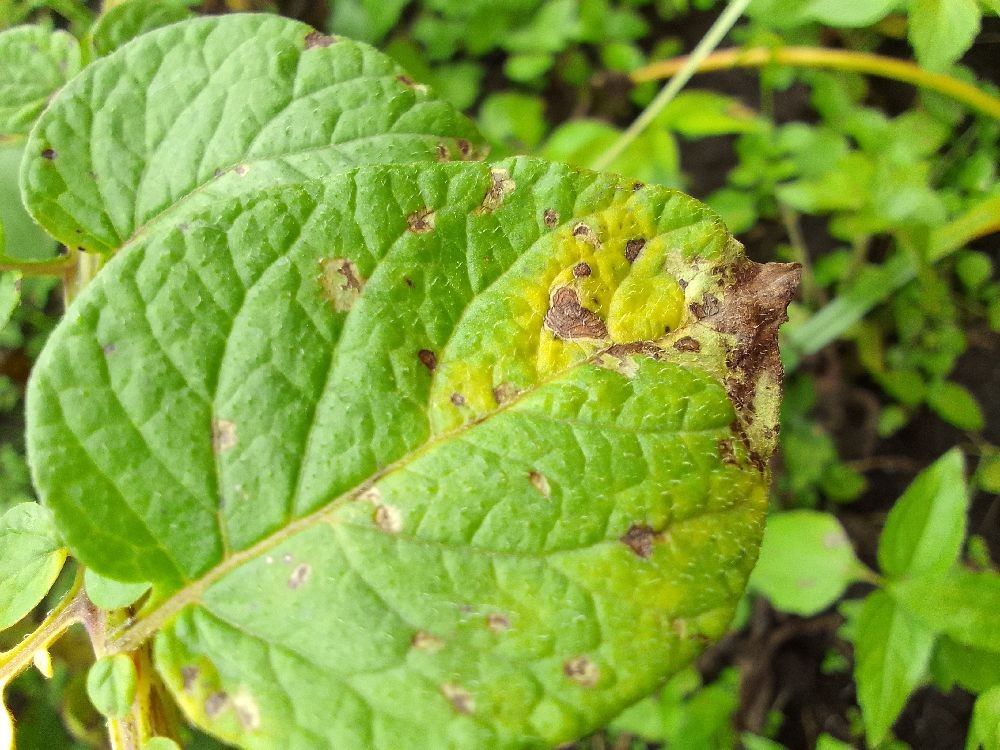late_blight: (512, 198, 941, 510), (648, 470, 922, 750), (508, 0, 749, 156), (877, 669, 983, 750)
